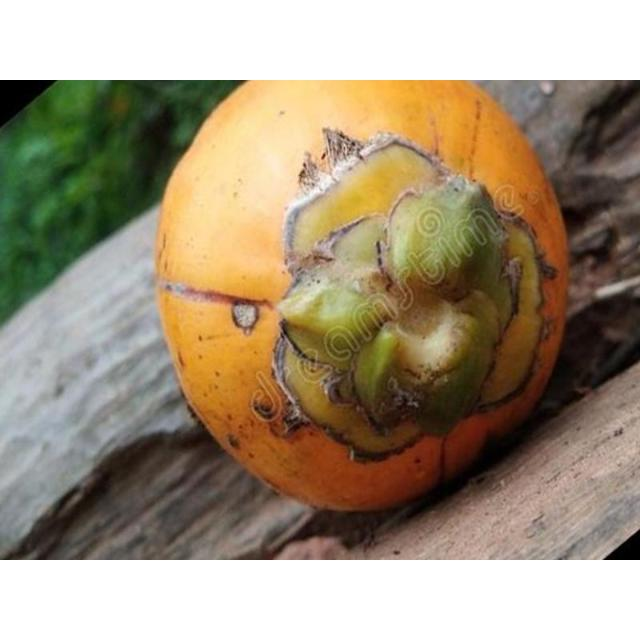good: (153, 80, 571, 517)
